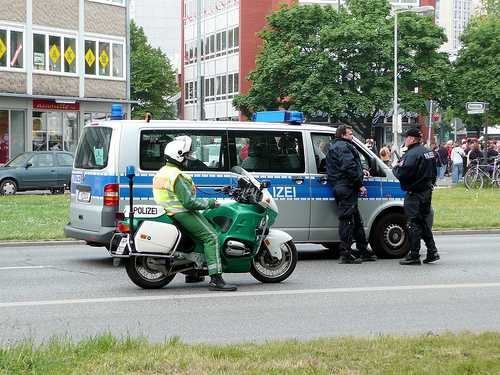Police Car: (66, 104, 417, 259), (120, 177, 318, 289)
